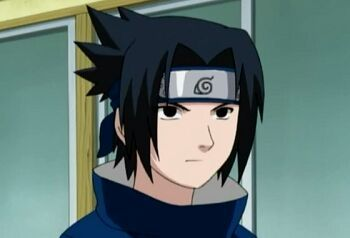sasuke: (113, 65, 245, 191)
